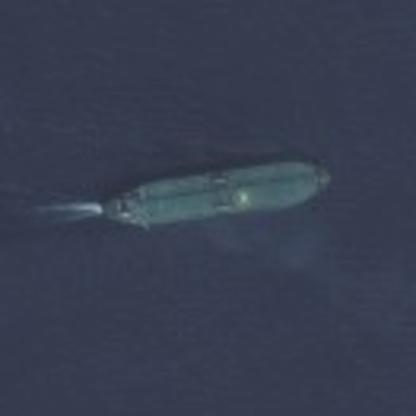ship: (90, 150, 337, 240)
